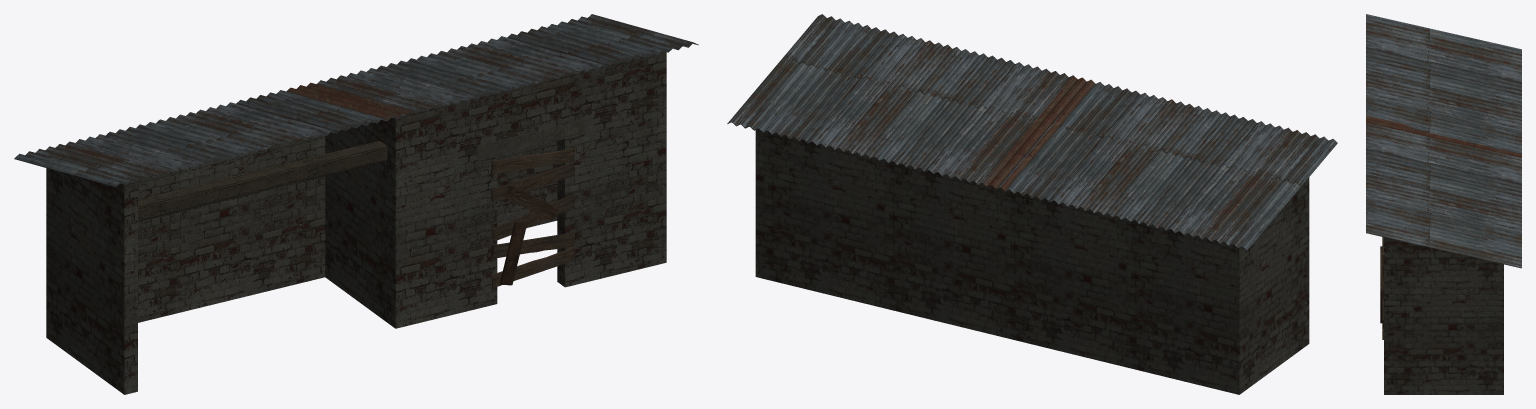
File: shed_ax_3.obj
3 renders of one model, left to right at view 1: azimuth 30°, elevation 25°; view 2: azimuth 150°, elevation 25°; view 3: azimuth 270°, elevation 25°, orthographic. The views are drawn at different scales.
Visible parts, largest first — view 1: shed_ax_3; view 2: shed_ax_3; view 3: shed_ax_3.
Boxes of the visible parts, bbox=[...] form: shed_ax_3: bbox=[14, 14, 698, 394]; shed_ax_3: bbox=[727, 14, 1337, 394]; shed_ax_3: bbox=[1366, 14, 1521, 394].
Size of the model in its own units: 8.59 by 3.17 by 2.6.
